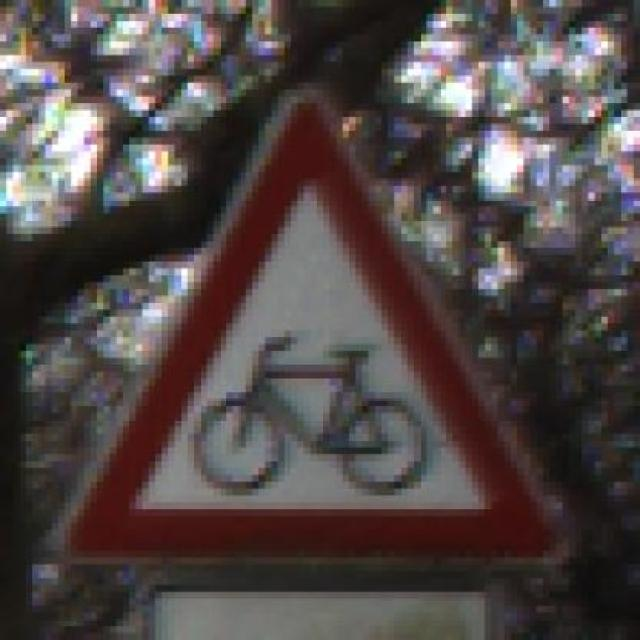CYCLE ROUTE AHEAD WARNING: (45, 75, 569, 571)
